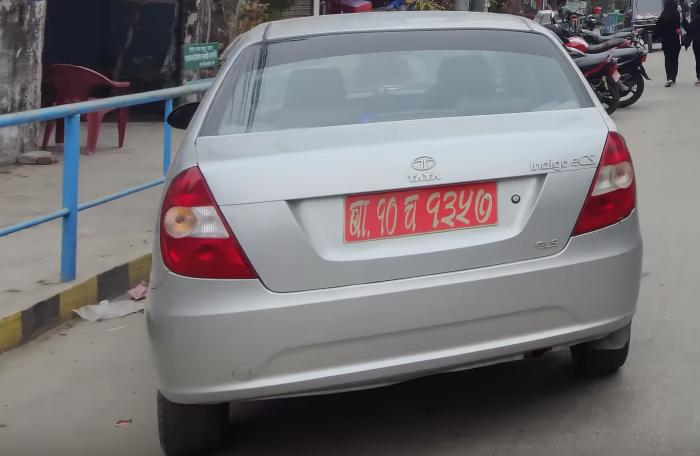car: (129, 7, 651, 456)
